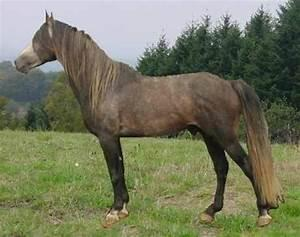horse: (14, 8, 284, 228)
